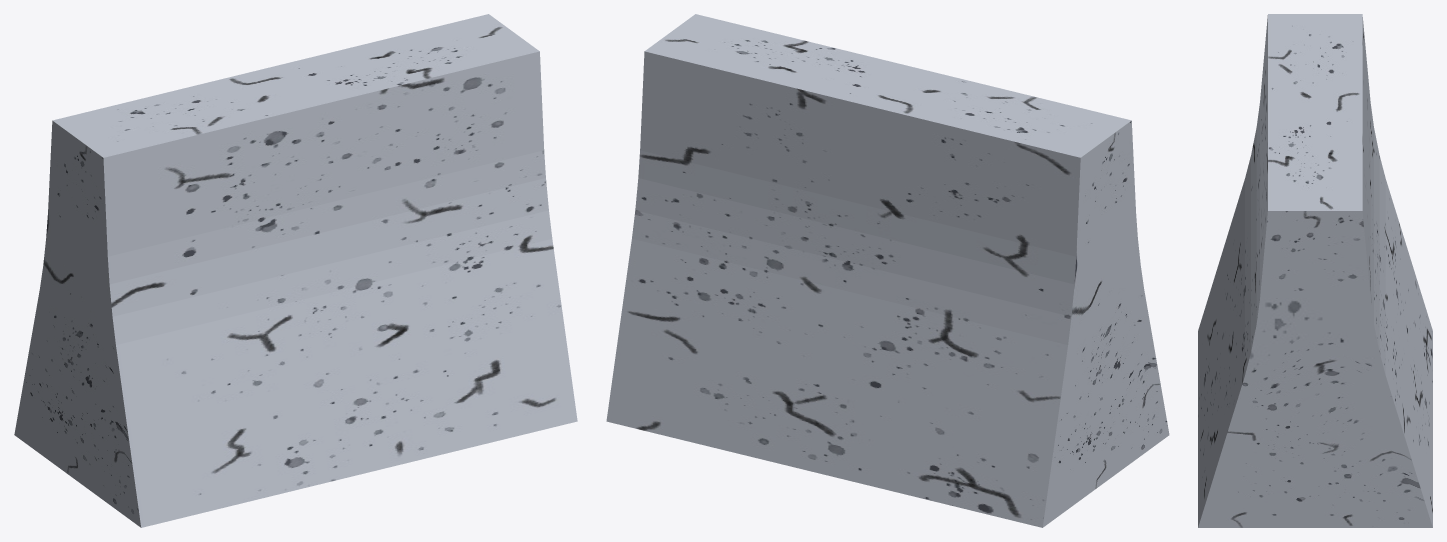
File: DO.NOT.USe_Old_Barricade.fbx
3 renders of one model, left to right at view 1: azimuth 30°, elevation 25°; view 2: azimuth 150°, elevation 25°; view 3: azimuth 270°, elevation 25°, orthographic. The views are drawn at different scales.
Parts seen in each view (by area): view 1: Cube; view 2: Cube; view 3: Cube.
Boxes of the visible parts, left/top/right/bottom form: Cube: left=14, top=14, right=577, bottom=527; Cube: left=606, top=14, right=1169, bottom=527; Cube: left=1198, top=14, right=1432, bottom=527.
Size of the model in its own units: 396 by 297 by 200.
